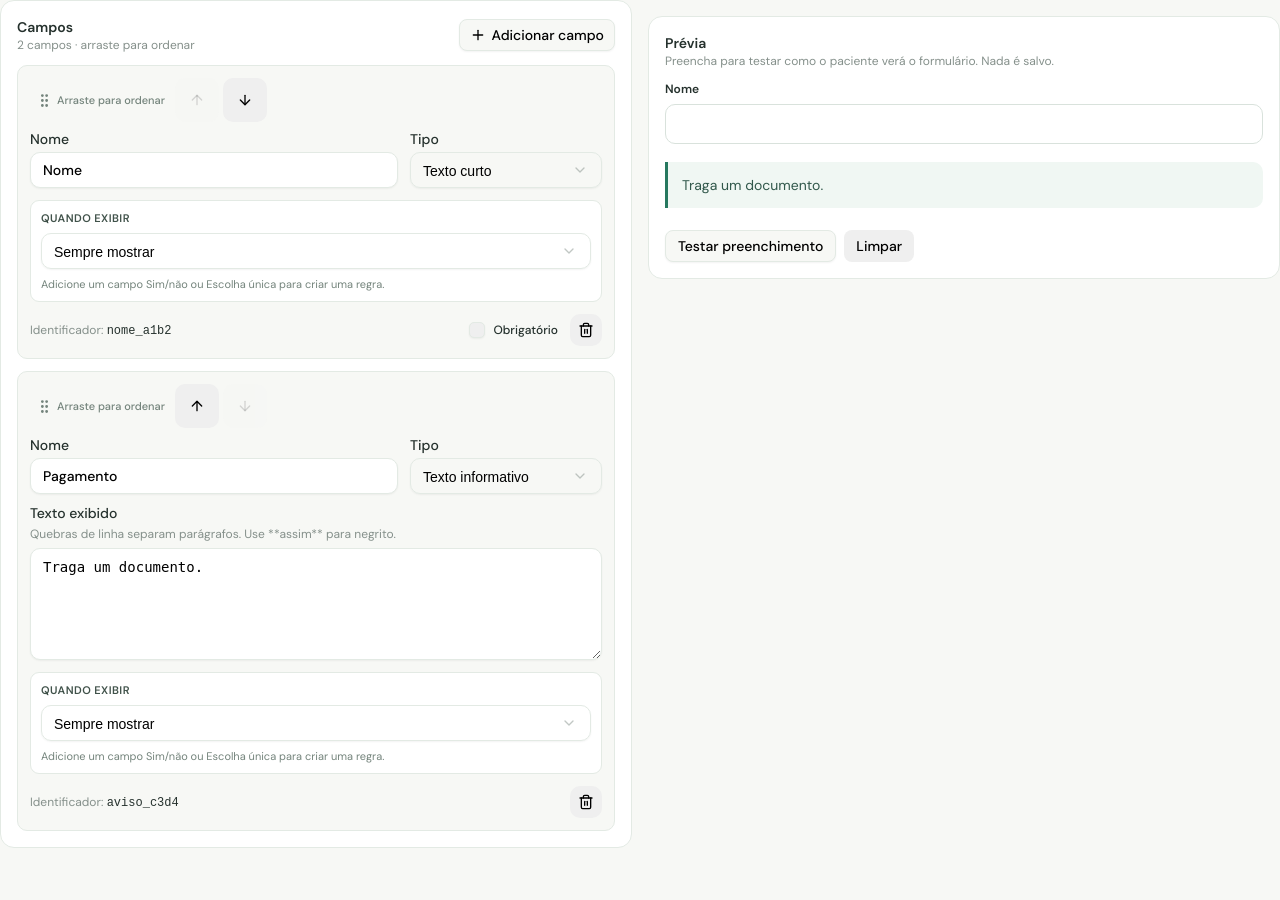
SchemaEditor order › edits notice content, hides required for notices and previews them in order
Step 1. Replace the text in the text box named "Texto de Pagamento" with "Após a ficha, **será enviado o link**." → (316, 604), box [30,548,602,660]
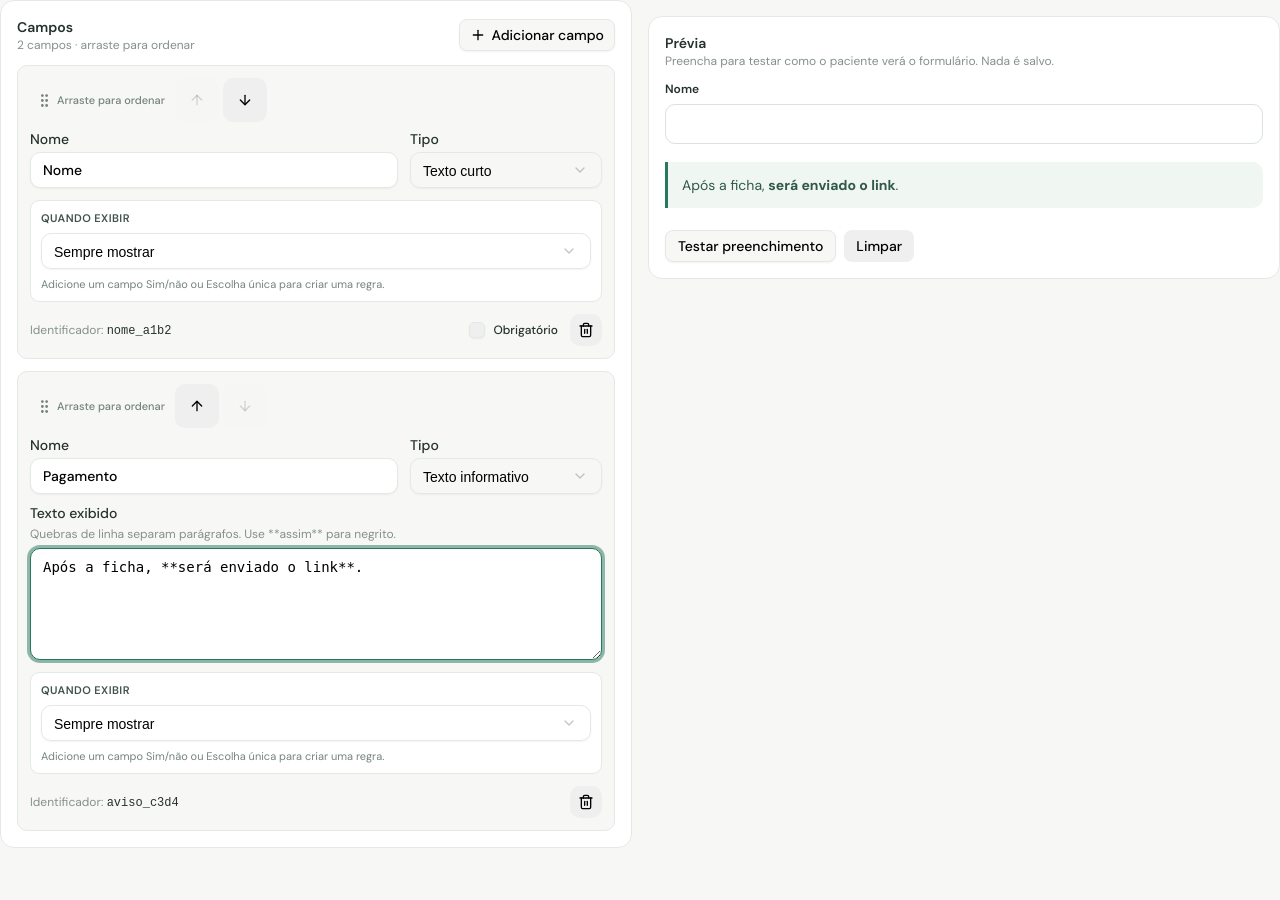
Check: the text "será enviado o link" is shown, box [768,176,896,194]
